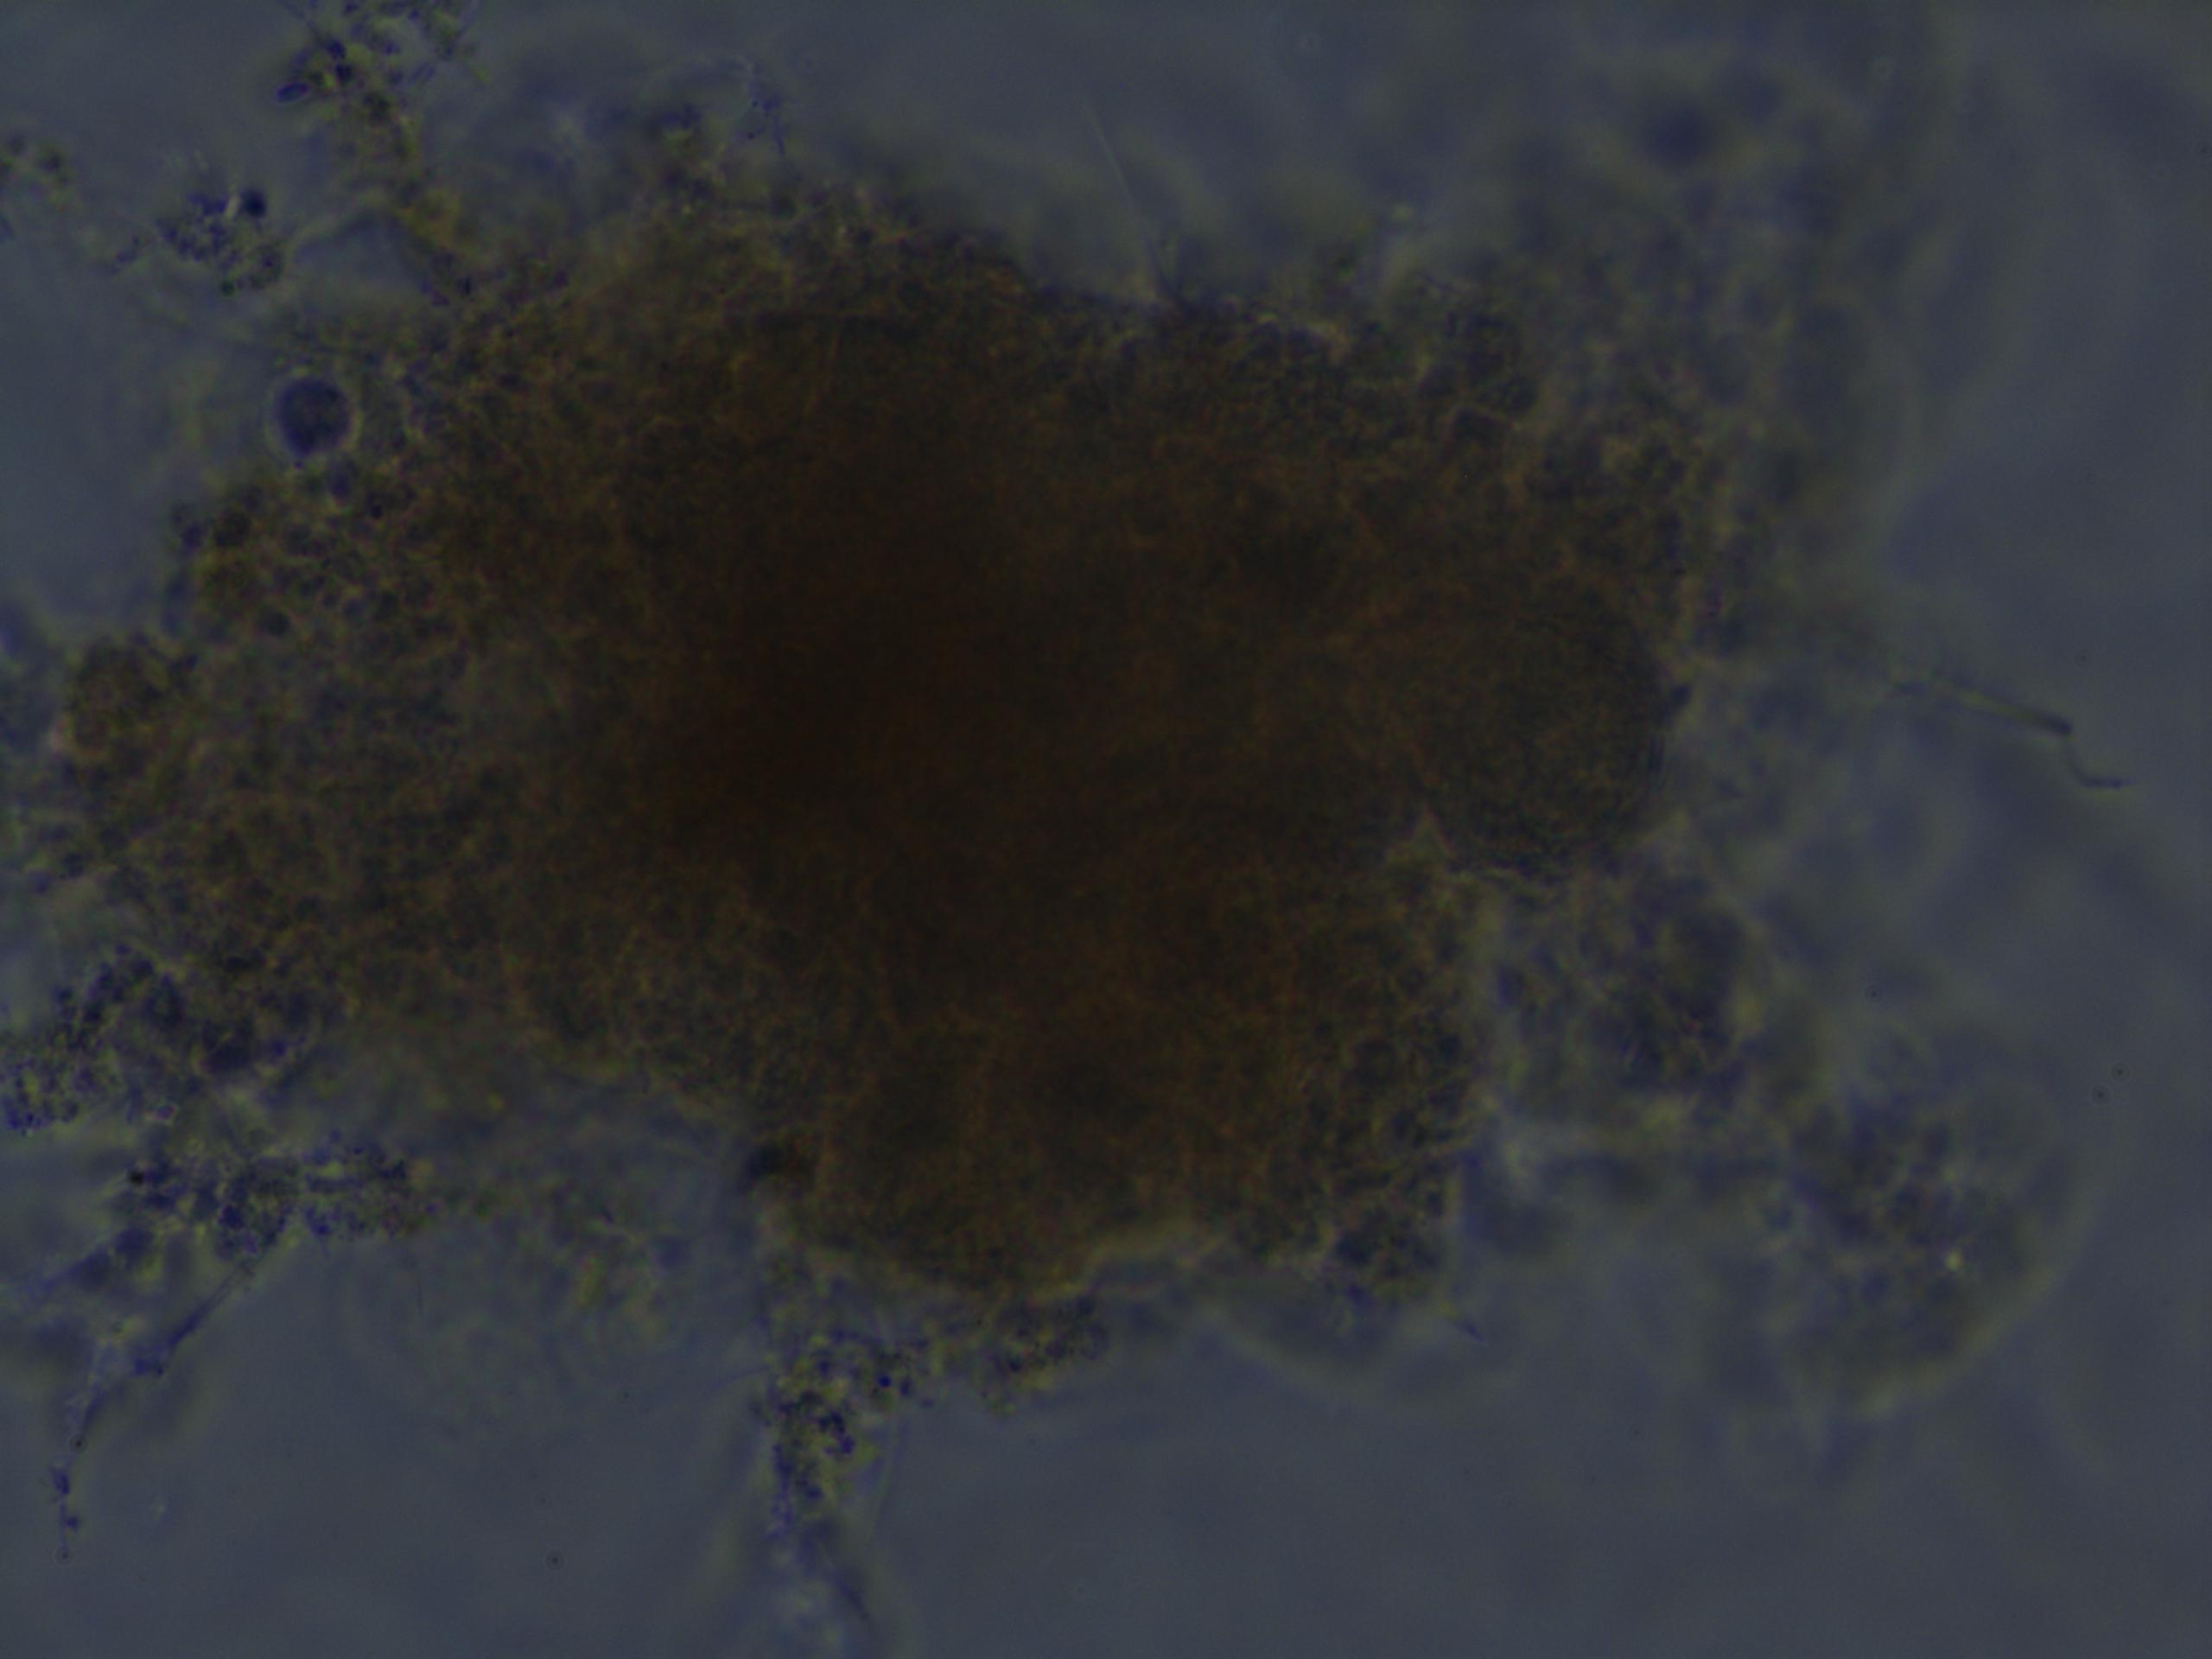filament: (7, 0, 526, 347), (35, 1143, 300, 1535), (1831, 605, 2175, 816), (730, 1364, 930, 1659)
spherical_floc: (28, 152, 1733, 1333)
